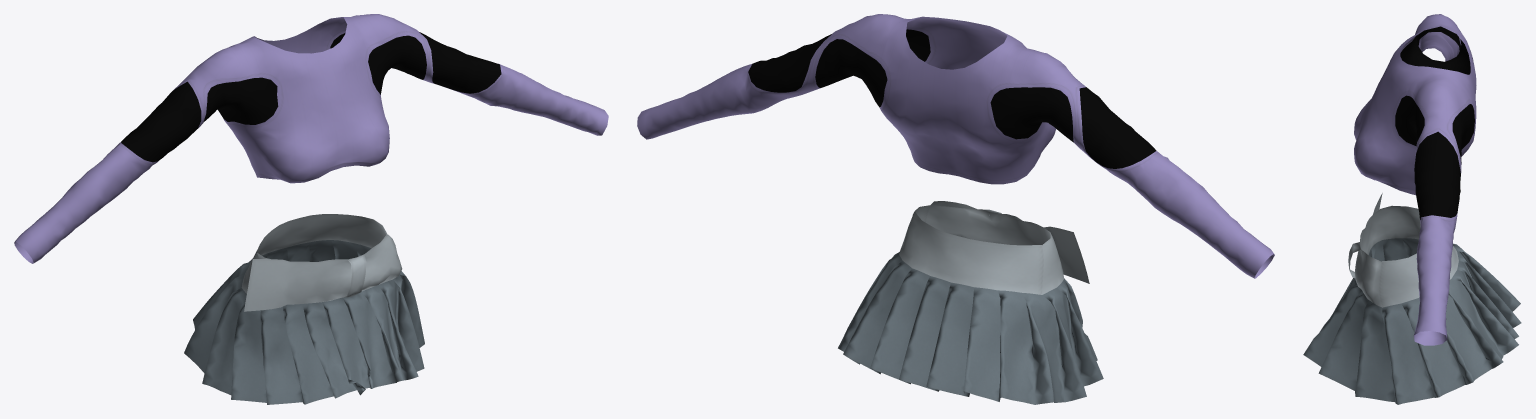
The picture shows the model from 3 angles, left to right: view 1: azimuth 30°, elevation 25°; view 2: azimuth 150°, elevation 25°; view 3: azimuth 270°, elevation 25°; orthographic projection. The views are drawn at different scales.
Visible parts, largest first — view 1: top, bottom; view 2: top, bottom; view 3: bottom, top.
Boxes of the visible parts, x1=… form: top: x1=14, y1=14, x2=608, y2=263; bottom: x1=184, y1=214, x2=424, y2=404; top: x1=637, y1=14, x2=1274, y2=278; bottom: x1=838, y1=201, x2=1103, y2=404; bottom: x1=1303, y1=193, x2=1521, y2=404; top: x1=1354, y1=14, x2=1476, y2=345.
Size of the model in its own units: 129 by 69.53 by 43.58.
4 materials, 4 textured.
